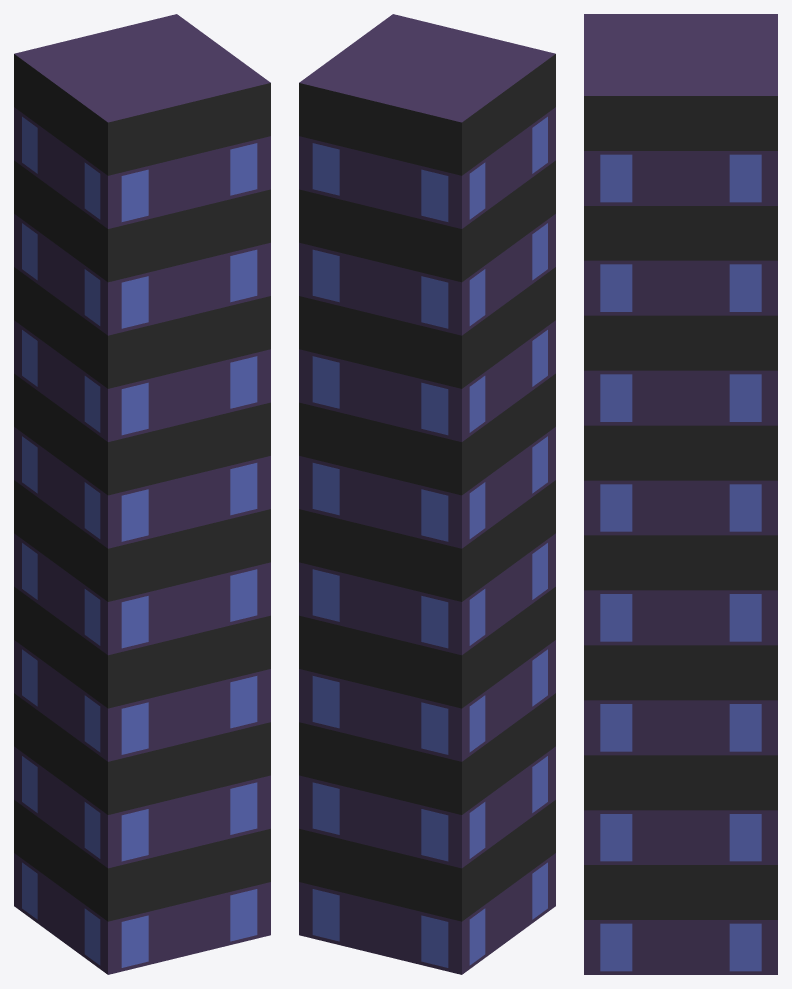
Rendered from SM_Build_02.fbx.
3 views of the same model, side by side, from view 1: azimuth 30°, elevation 25°; view 2: azimuth 150°, elevation 25°; view 3: azimuth 270°, elevation 25° (orthographic). The views are drawn at different scales.
Visible parts, largest first — view 1: Cube.104; view 2: Cube.104; view 3: Cube.104.
Part boxes in pixels (left/top/right/bottom): Cube.104: left=14, top=14, right=270, bottom=974; Cube.104: left=299, top=14, right=555, bottom=974; Cube.104: left=584, top=14, right=777, bottom=974.
Bounding box in the file's own units: 1059 × 5296 × 1059.
